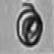correct: (16, 4, 43, 47)
